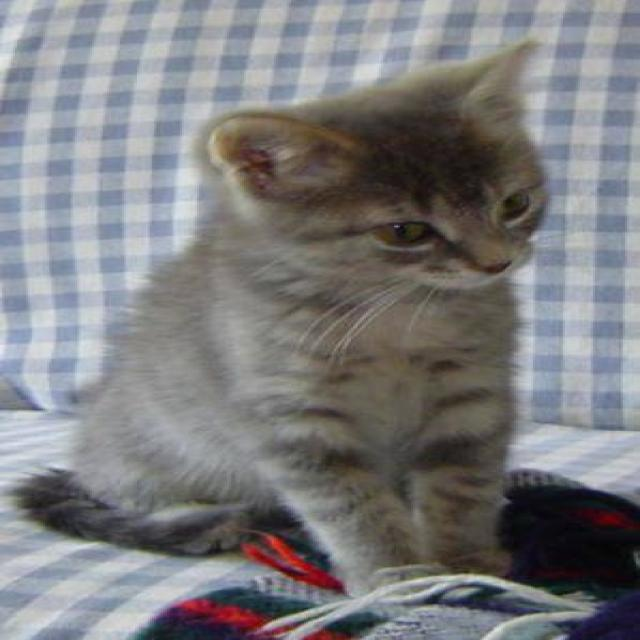cat: (9, 37, 550, 598)
